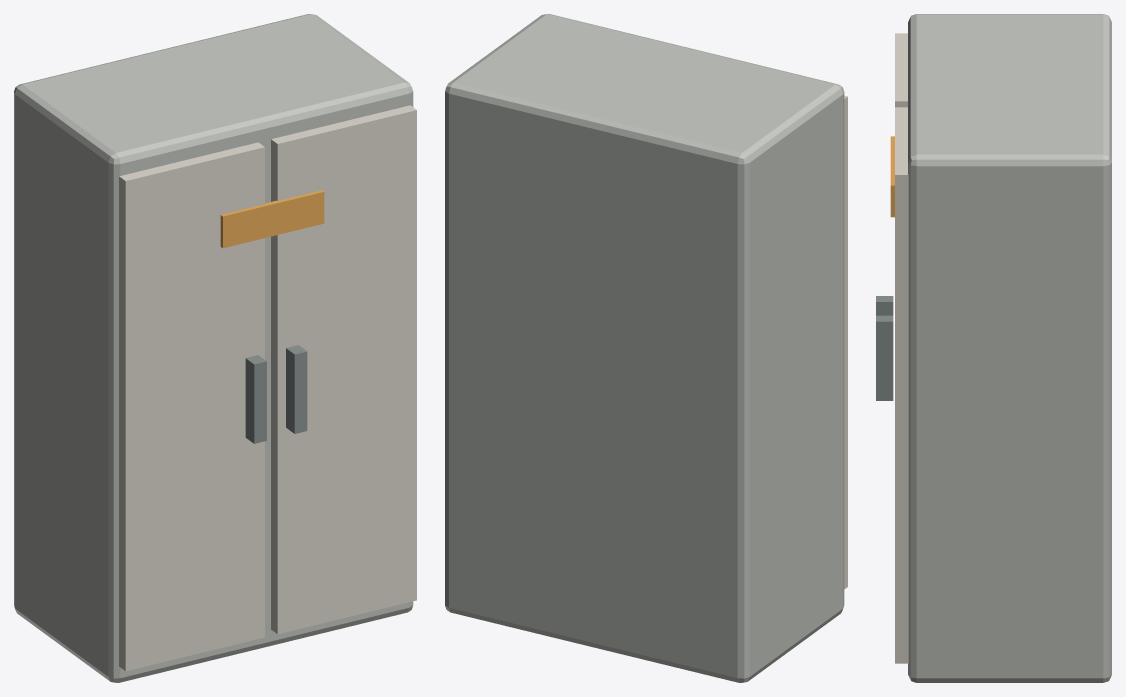
File: prop_tool_locker.glb
3 views of the same model, side by side, from view 1: azimuth 30°, elevation 25°; view 2: azimuth 150°, elevation 25°; view 3: azimuth 270°, elevation 25° (orthographic).
Parts seen in each view (by area): view 1: prop_tool_locker; view 2: prop_tool_locker; view 3: prop_tool_locker.
Boxes of the visible parts, x1,y1,x2,y2 form: prop_tool_locker: [14, 14, 416, 682]; prop_tool_locker: [445, 14, 847, 682]; prop_tool_locker: [876, 14, 1111, 682].
Bounding box in the file's own units: 1.2 × 2 × 0.81.
